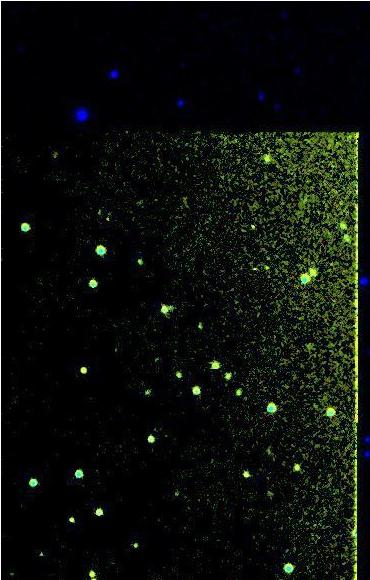star: (302, 251, 332, 281)
